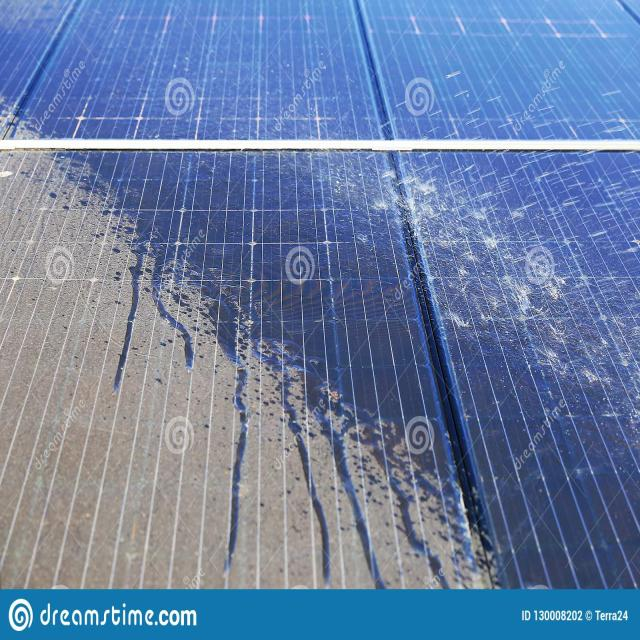dust-solar-panel: (0, 94, 526, 595)
